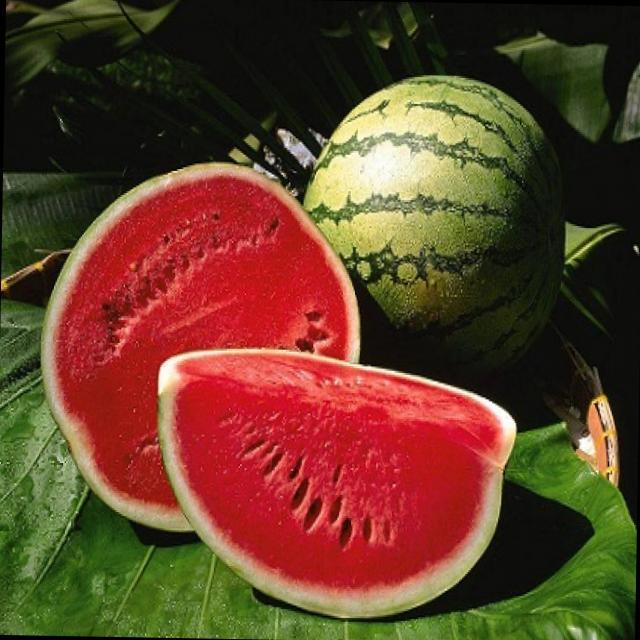WATERMELON: (159, 338, 515, 603)
